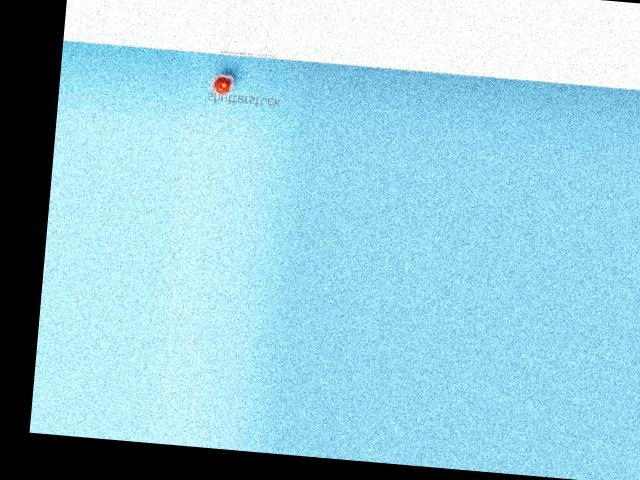tomato: (215, 76, 231, 93)
